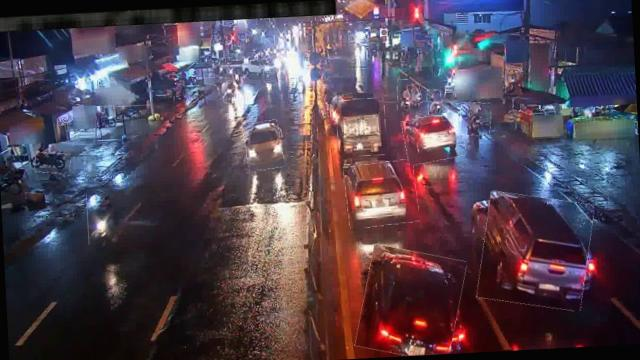Bike: (85, 192, 116, 244), (458, 102, 492, 136), (34, 150, 71, 174), (115, 104, 151, 120), (396, 78, 410, 110), (426, 89, 442, 117), (223, 80, 236, 104), (408, 82, 422, 104)
Car: (476, 190, 594, 312), (354, 244, 466, 357), (344, 160, 418, 228), (402, 112, 466, 164), (242, 120, 284, 170)
Truck: (336, 98, 388, 158)
